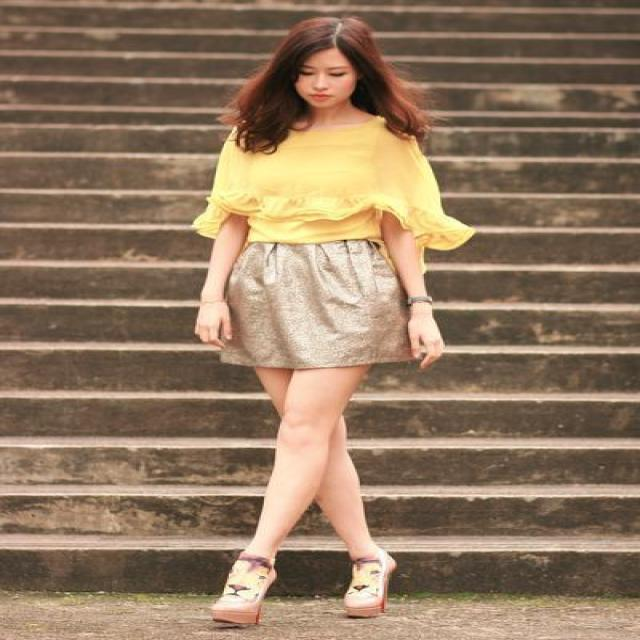shirt: (173, 113, 478, 257)
shoe: (212, 553, 382, 609)
skirt: (211, 241, 411, 385)
